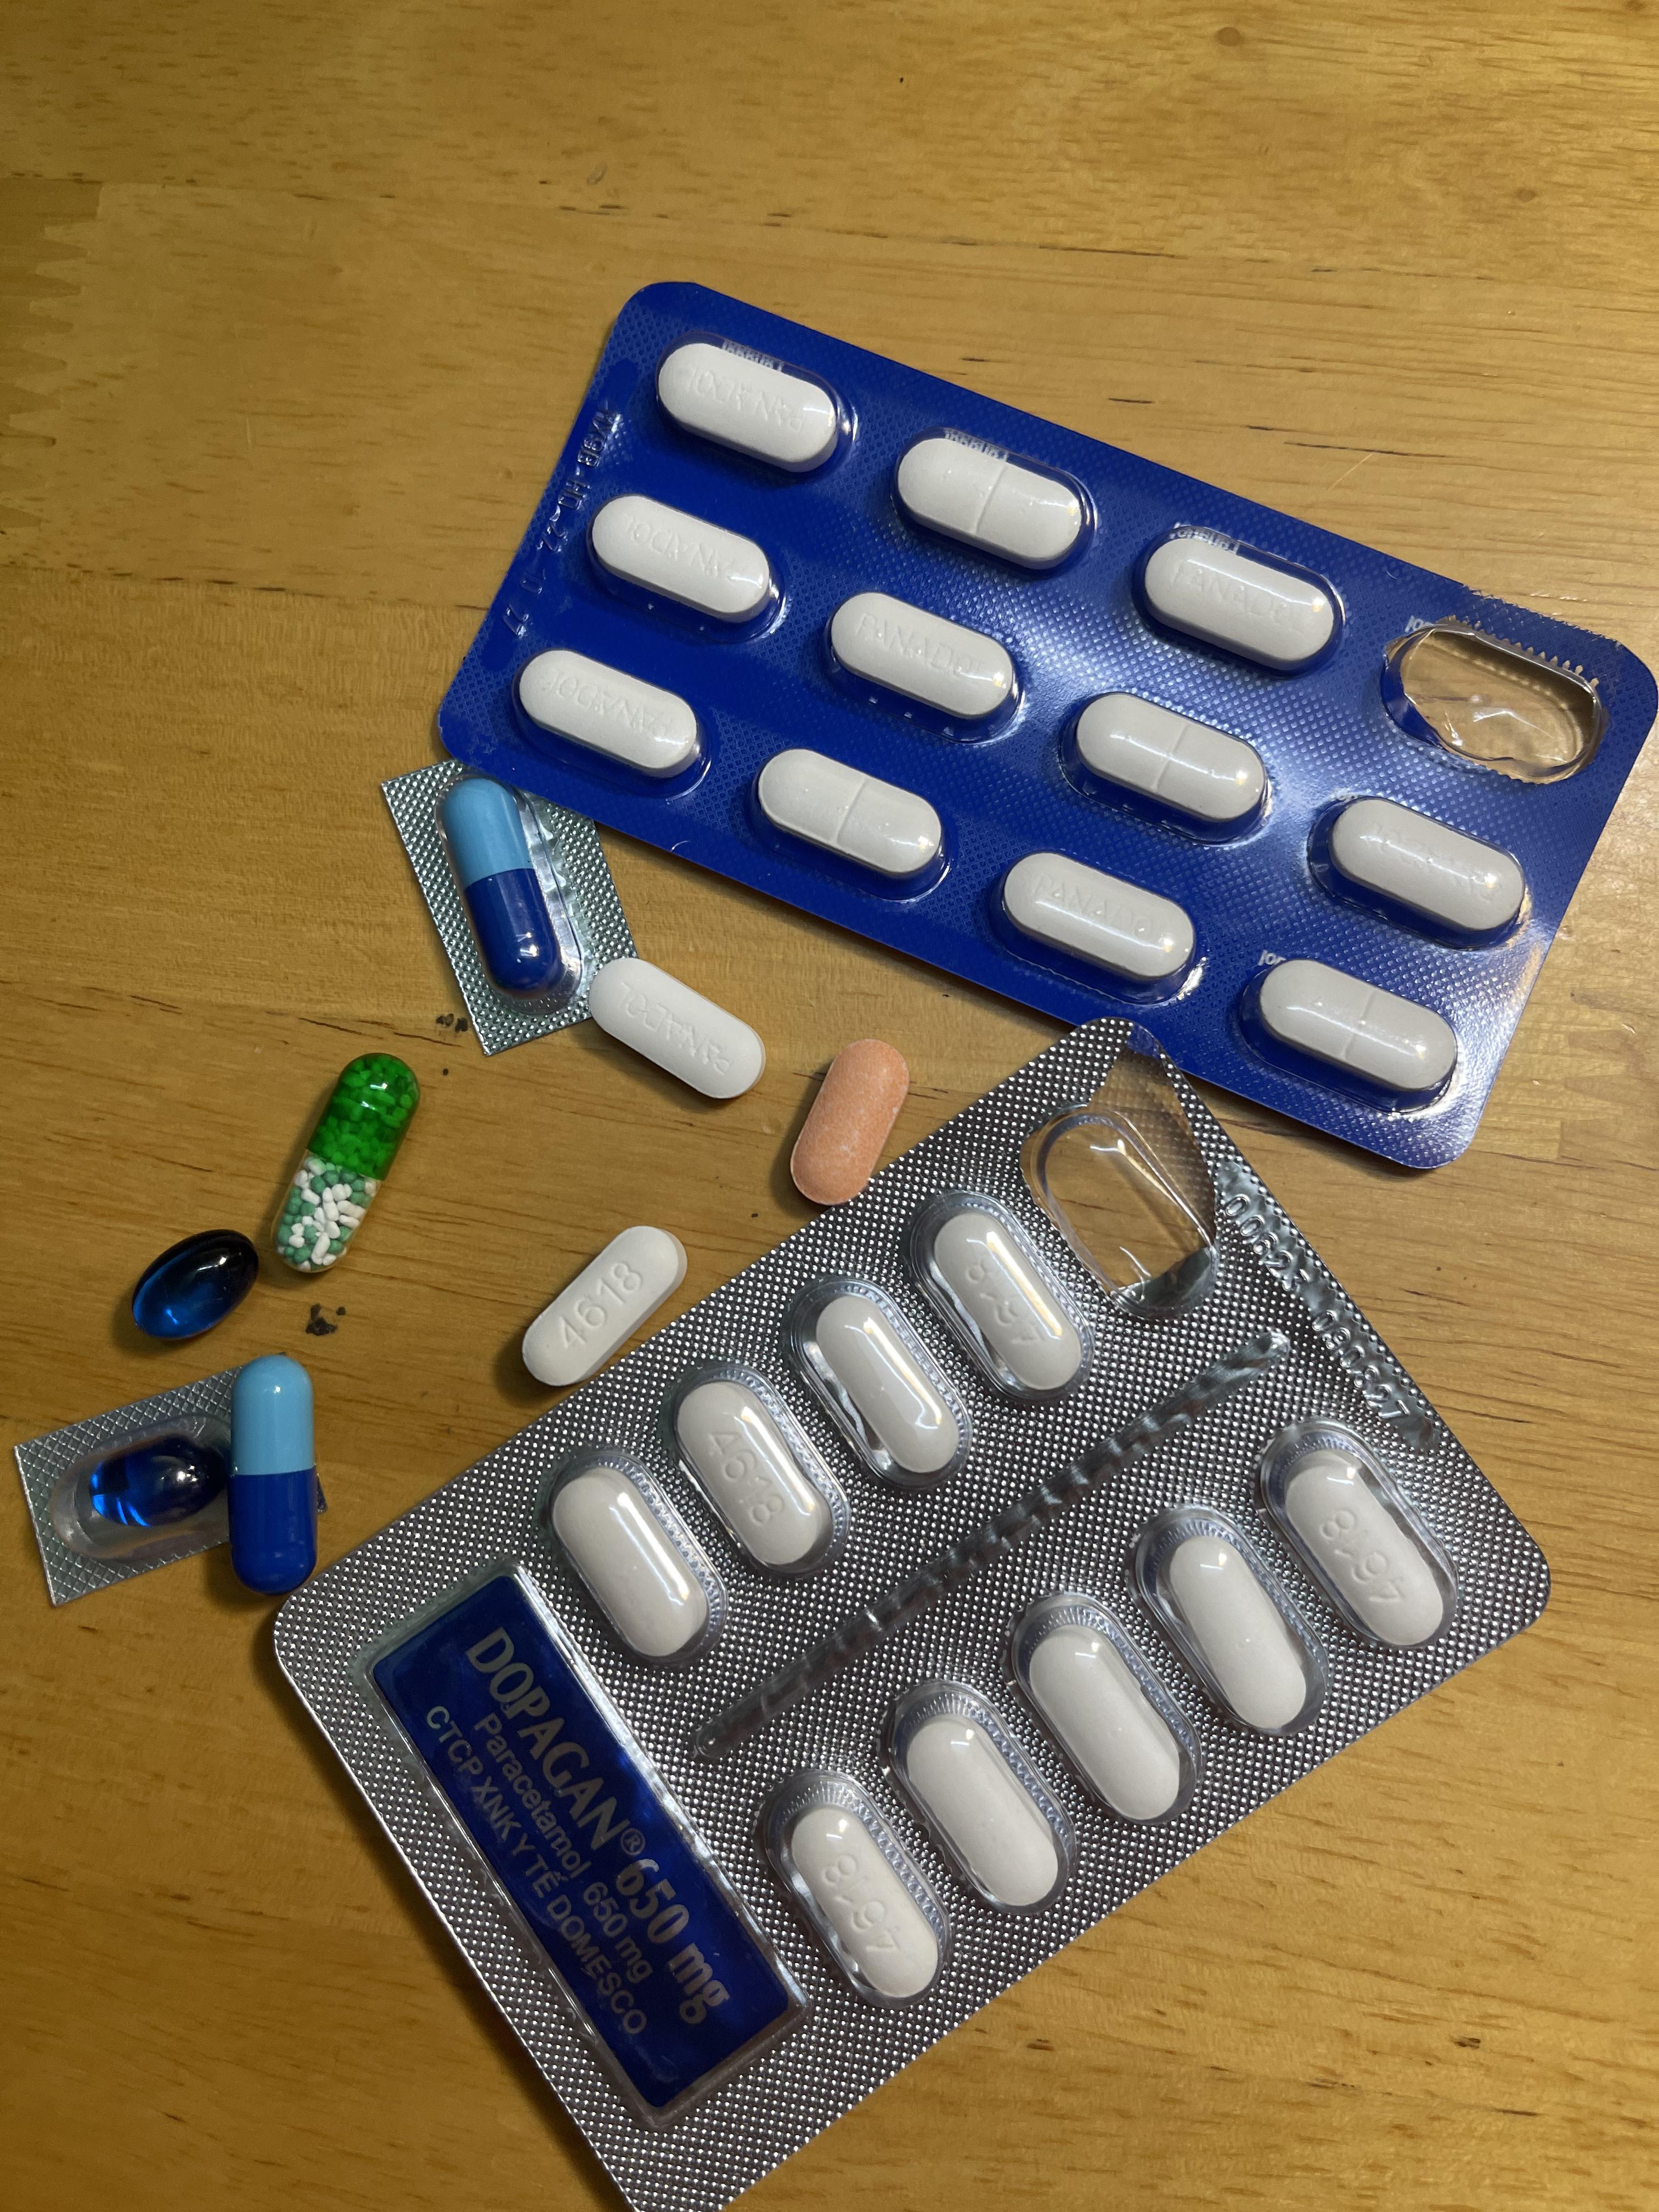Lincomyxin_500mg: (136, 1228, 260, 1339), (96, 1439, 225, 1527)
Loratadine_10mg: (784, 1043, 913, 1207)
Paracetamol_350mg: (1321, 796, 1532, 944), (1249, 958, 1460, 1099), (1138, 528, 1340, 671), (896, 430, 1096, 573), (1073, 691, 1263, 831), (999, 848, 1190, 986), (657, 338, 847, 474), (831, 592, 1023, 726), (758, 747, 945, 881), (589, 958, 765, 1099), (592, 493, 775, 625), (518, 648, 697, 779)
Paracetamol_500mg: (781, 1278, 969, 1494), (664, 1360, 850, 1575), (1016, 1609, 1192, 1827), (1272, 1440, 1446, 1648), (918, 1200, 1091, 1400), (899, 1707, 1061, 1911), (784, 1789, 936, 2003), (1161, 1526, 1309, 1737), (552, 1468, 706, 1656), (516, 1226, 688, 1386)
Paracetamol_650mg: (268, 1057, 415, 1277)
pill: (446, 780, 565, 995), (230, 1360, 315, 1585)
